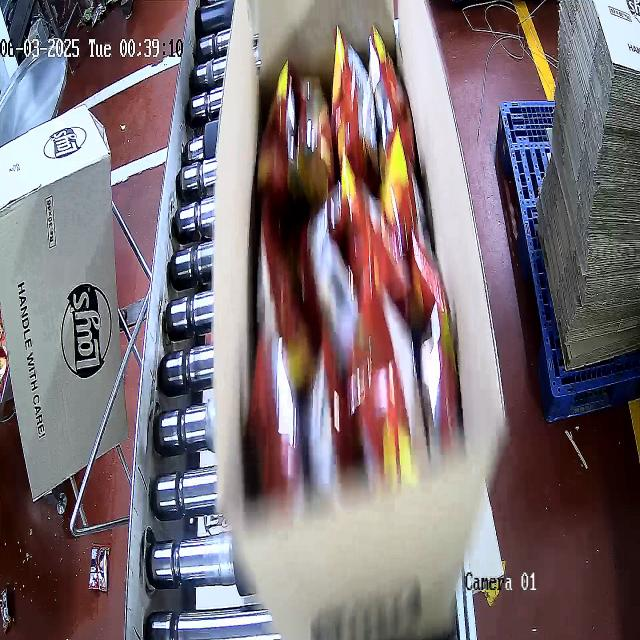MASALA: (251, 22, 461, 510)
